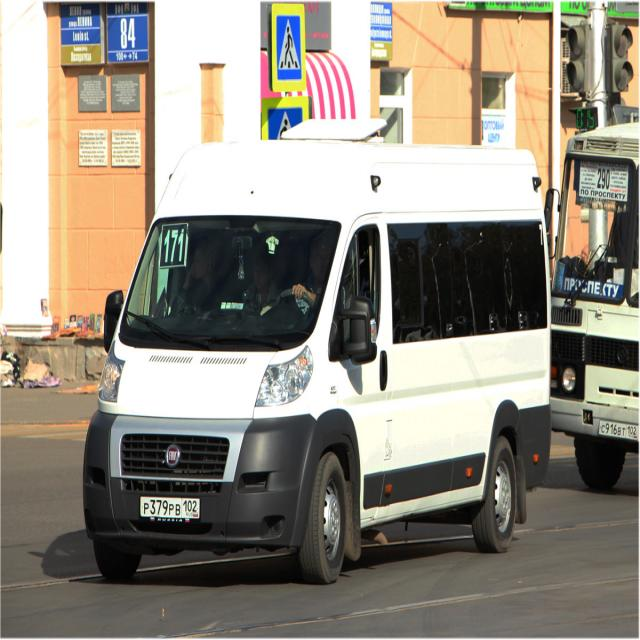number-of-bus: (163, 228, 186, 264)
